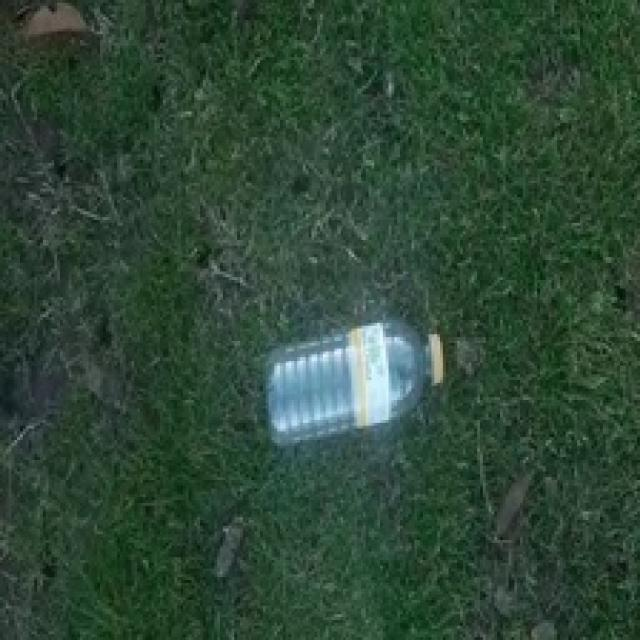Plastic: (260, 319, 448, 442)
